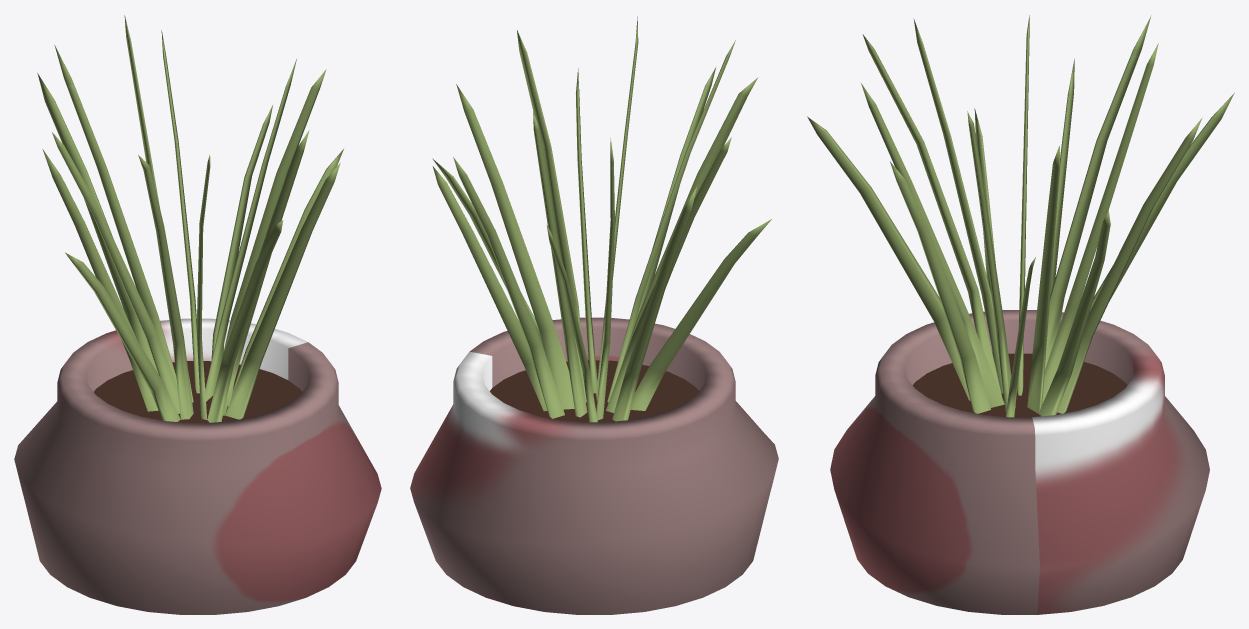
The model's file is MOD_Grasplant_V1.fbx.
3 renders of one model, left to right at view 1: azimuth 30°, elevation 25°; view 2: azimuth 150°, elevation 25°; view 3: azimuth 270°, elevation 25°, orthographic. The views are drawn at different scales.
Parts seen in each view (by area): view 1: Cylinder.001; view 2: Cylinder.001; view 3: Cylinder.001.
Boxes of the visible parts, left/top/right/bottom form: Cylinder.001: left=14, top=15, right=381, bottom=614; Cylinder.001: left=410, top=16, right=778, bottom=614; Cylinder.001: left=807, top=15, right=1234, bottom=614.
Size of the model in its own units: 122 by 179 by 139.
